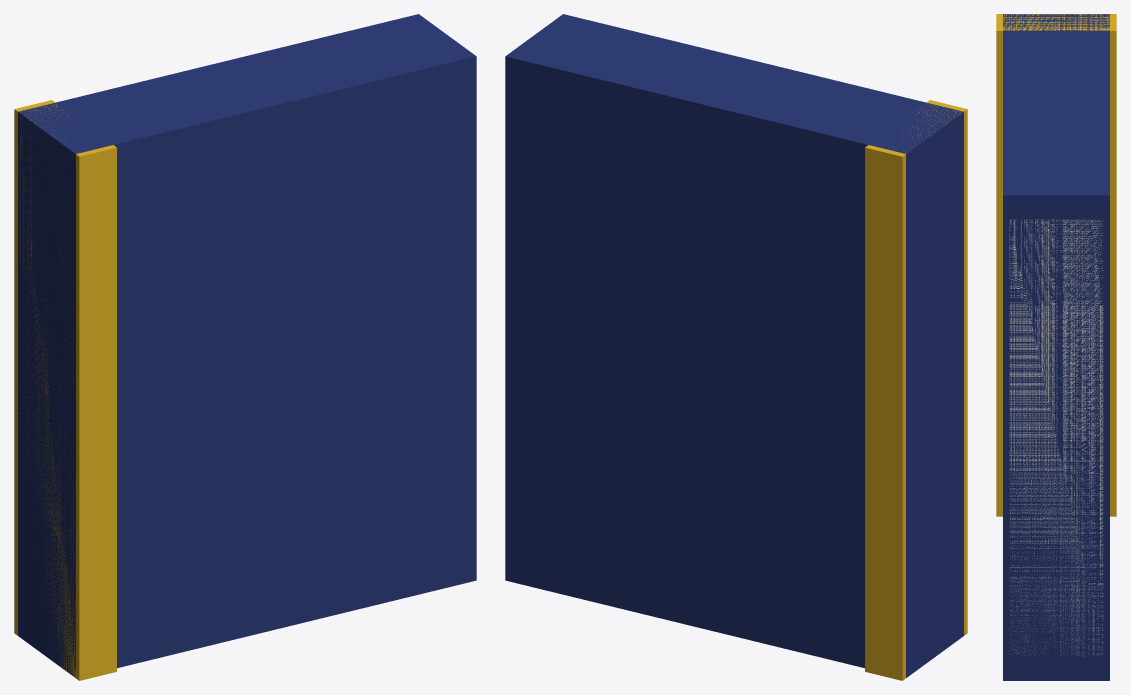
Rendered from book.glb.
3 views of the same model, side by side, from view 1: azimuth 30°, elevation 25°; view 2: azimuth 150°, elevation 25°; view 3: azimuth 270°, elevation 25° (orthographic). The views are drawn at different scales.
Visible parts, largest first — view 1: book; view 2: book; view 3: book.
Part boxes in pixels (x1,y1,x2,y2): book: (14, 14, 476, 680); book: (505, 14, 967, 680); book: (996, 14, 1116, 680).
Size of the model in its own units: 0.16 by 0.2 by 0.045.
Materials: 1 (1 with a texture image).
